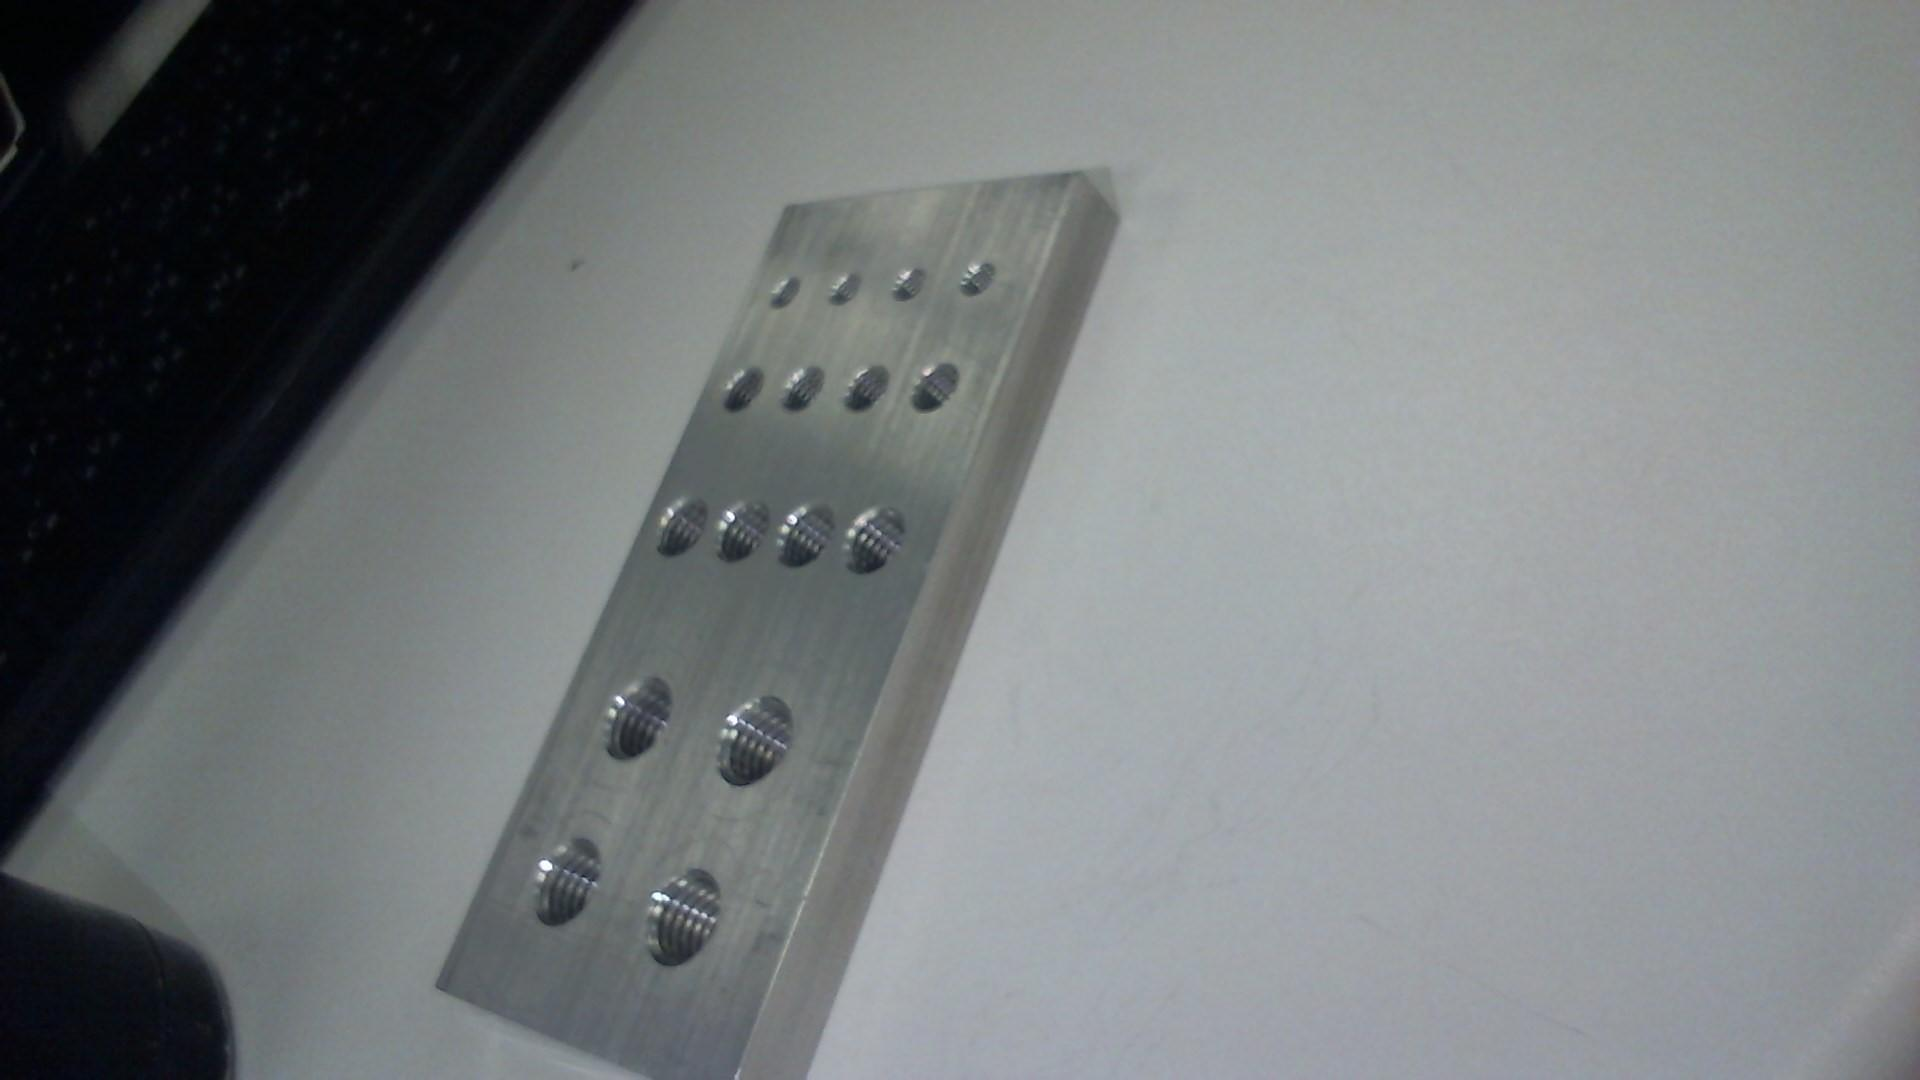hole: (636, 865, 732, 973), (707, 690, 802, 795), (525, 832, 608, 931), (593, 669, 676, 764), (836, 506, 902, 582), (712, 495, 769, 566), (775, 498, 829, 572), (655, 497, 708, 566), (906, 356, 959, 411), (778, 361, 828, 417), (843, 363, 893, 413), (955, 255, 996, 315), (723, 361, 765, 411), (887, 261, 924, 310), (824, 266, 862, 313), (766, 272, 800, 311)
